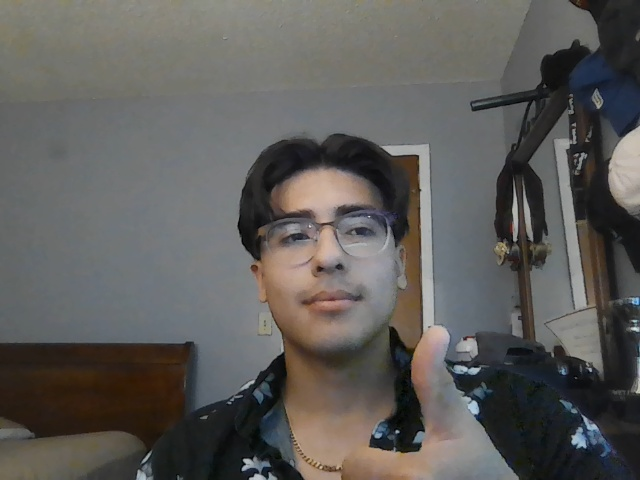ThumbsUp: (340, 326, 525, 480)
person: (237, 136, 407, 355)
